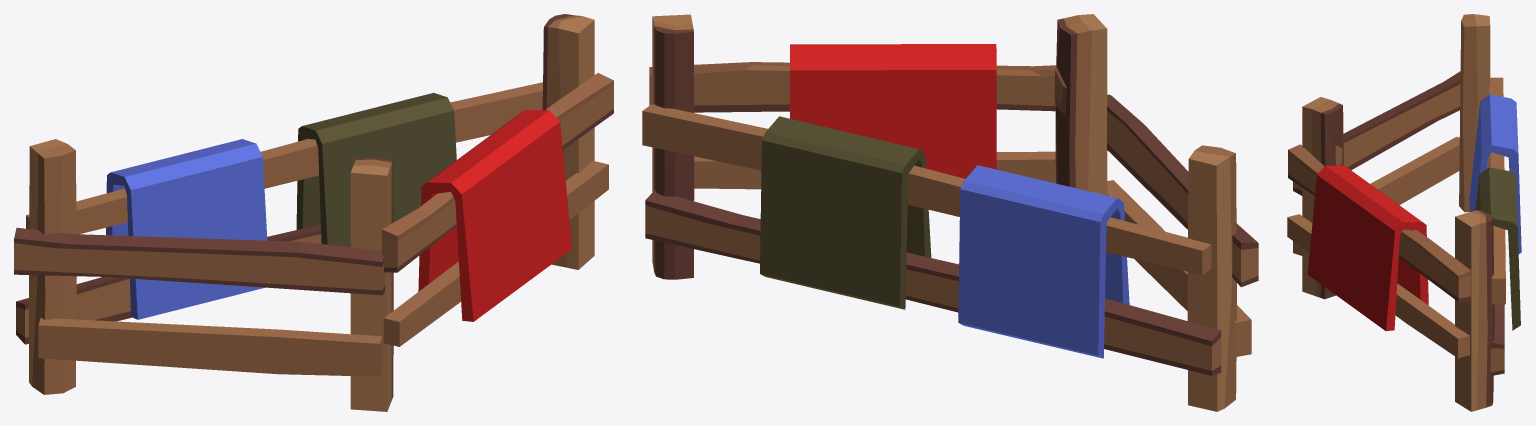
Rendered from drying_fabric_2.fbx.
The picture shows the model from 3 angles, left to right: view 1: azimuth 30°, elevation 25°; view 2: azimuth 150°, elevation 25°; view 3: azimuth 270°, elevation 25°; orthographic projection. The views are drawn at different scales.
Visible parts, largest first — view 1: drying_2.003; view 2: drying_2.003; view 3: drying_2.003.
Part boxes in pixels (box(x1,y1,x2,y2)): drying_2.003: box(14, 14, 613, 411); drying_2.003: box(642, 14, 1258, 411); drying_2.003: box(1287, 14, 1521, 411).
Bounding box in the file's own units: 136 × 52.01 × 59.34.
